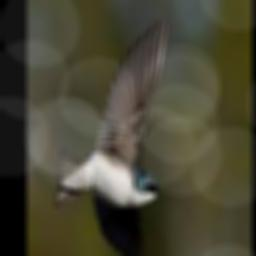Swallow: (55, 14, 170, 256)
